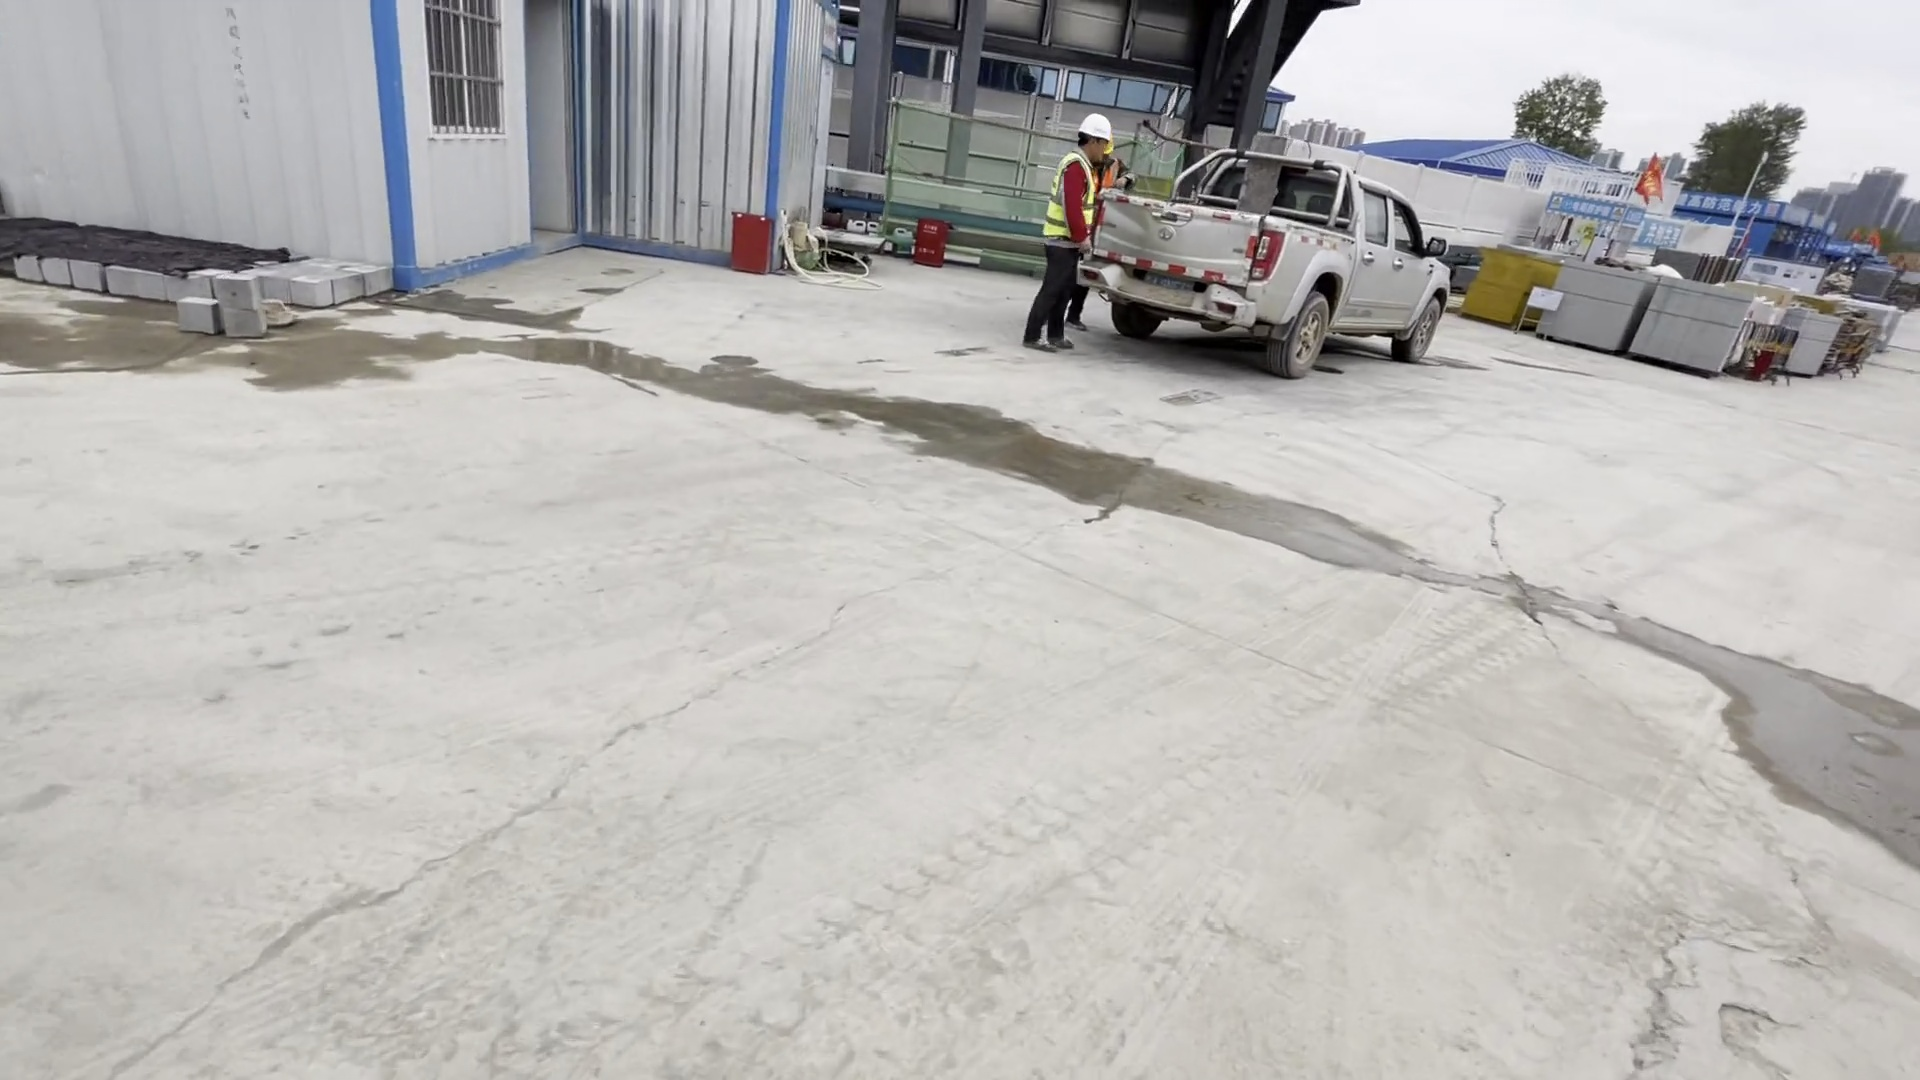board: (1458, 246, 1547, 333)
brick: (1539, 251, 1764, 390), (1774, 309, 1848, 386)
helmet: (1080, 114, 1112, 141)
person: (1039, 109, 1088, 360)
slogan: (1678, 189, 1776, 224)
vest: (1047, 153, 1099, 238)
